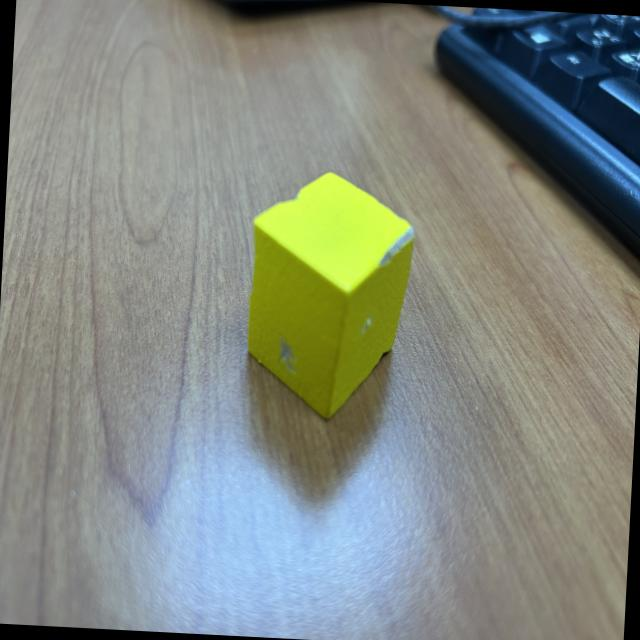broken: (242, 167, 418, 426)
